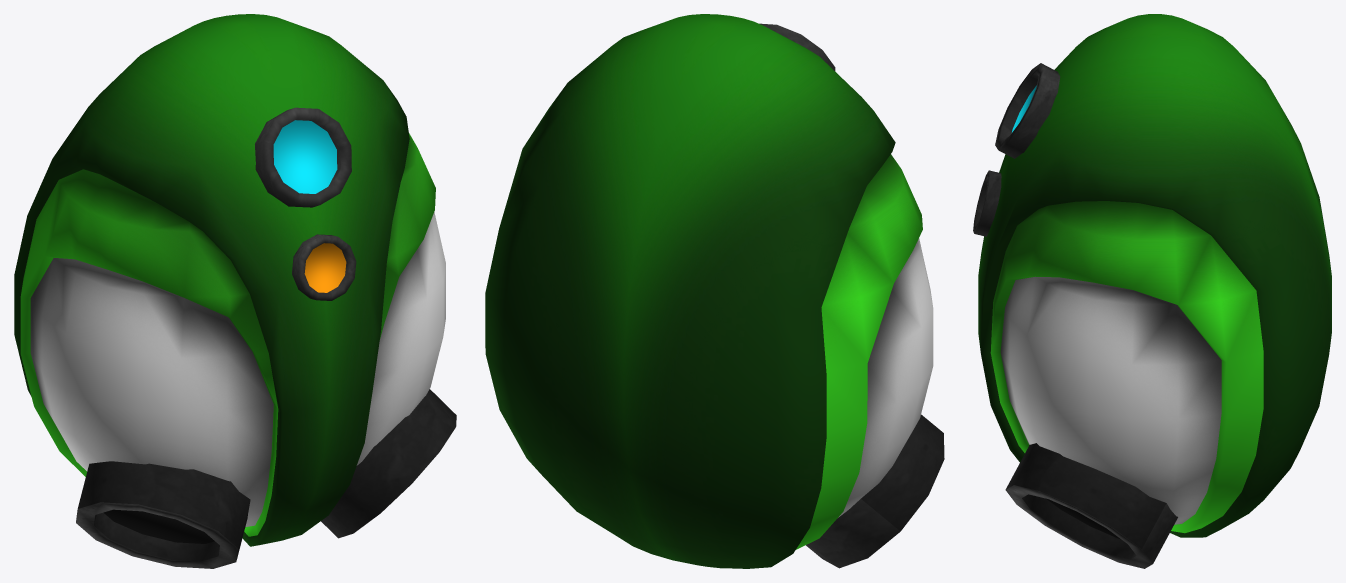
File: propulsor1.FBX
3 renders of one model, left to right at view 1: azimuth 30°, elevation 25°; view 2: azimuth 150°, elevation 25°; view 3: azimuth 270°, elevation 25°, orthographic. The views are drawn at different scales.
Parts seen in each view (by area): view 1: Sphere001; view 2: Sphere001; view 3: Sphere001.
Part boxes in pixels (x1,y1,x2,y2): Sphere001: [14, 14, 456, 568]; Sphere001: [485, 14, 944, 568]; Sphere001: [973, 14, 1331, 568].
Size of the model in its own units: 34.74 by 45.94 by 30.03.
